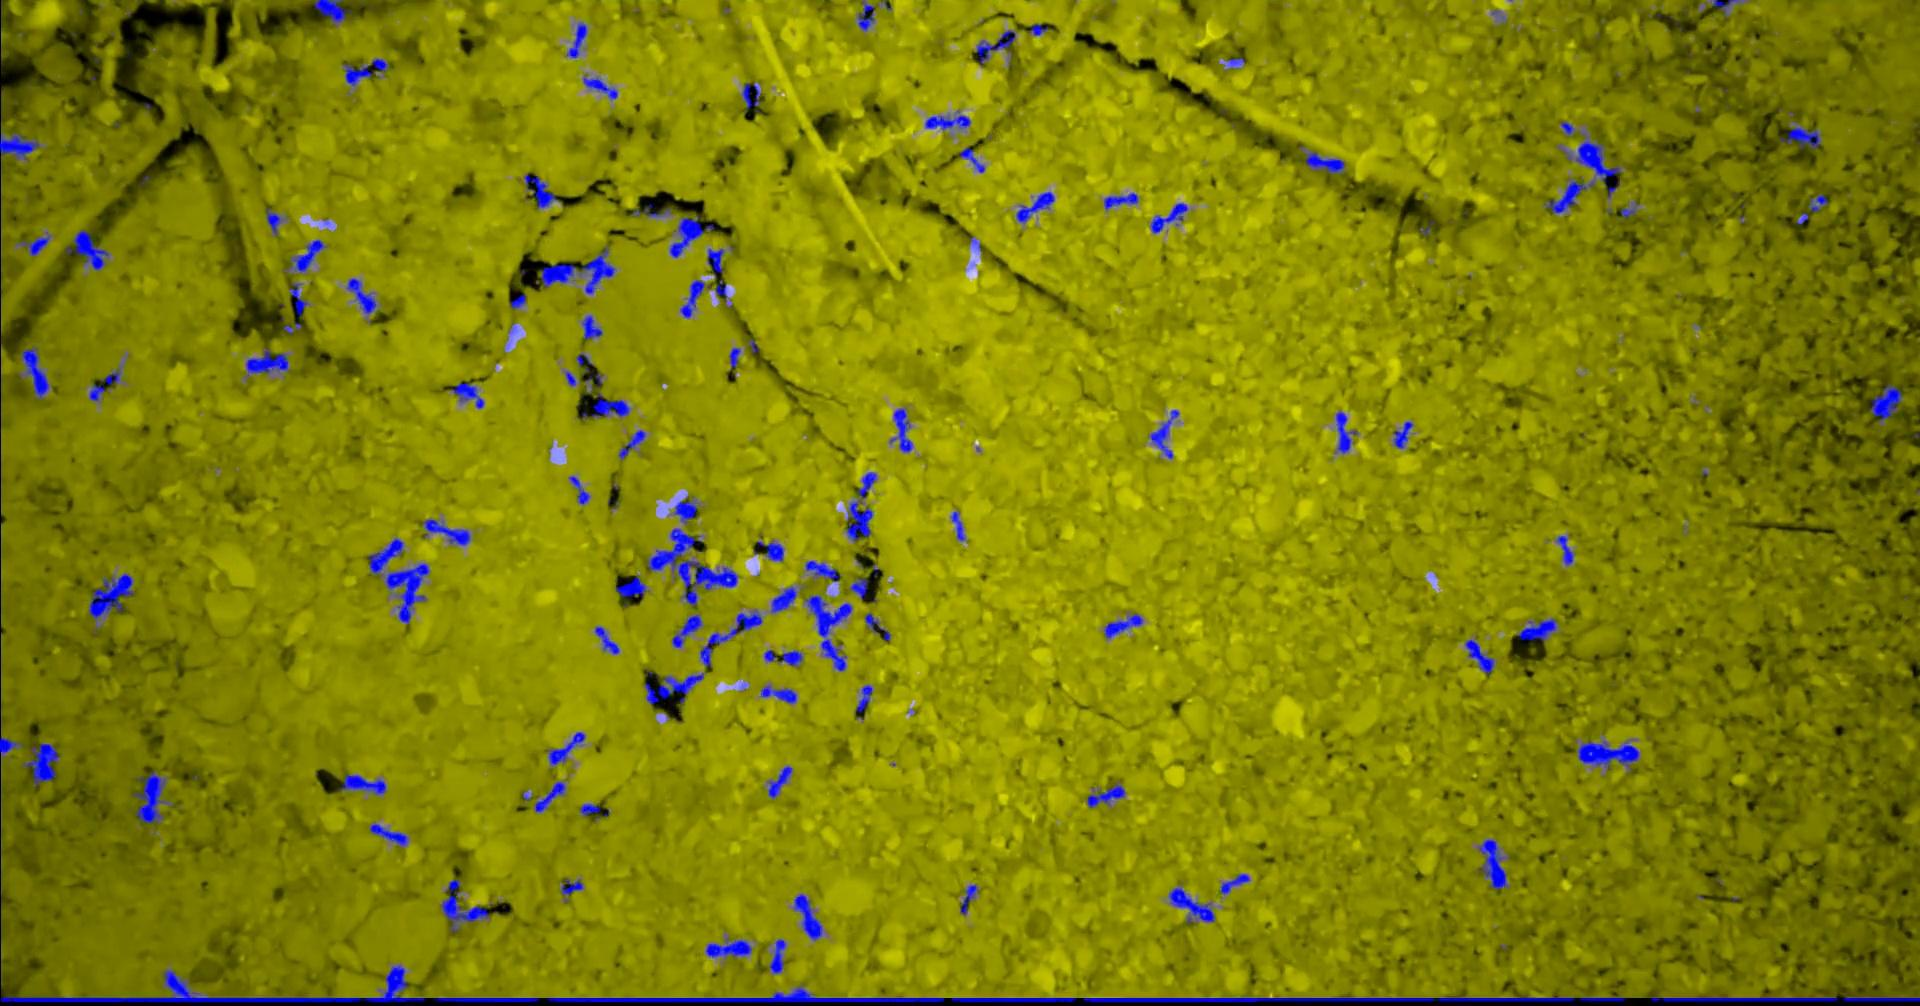ant: (698, 608, 762, 666), (1559, 133, 1620, 185), (439, 878, 488, 931), (0, 119, 39, 178), (846, 471, 876, 541), (133, 771, 171, 823), (643, 672, 703, 704), (1576, 739, 1639, 770), (63, 229, 108, 271), (18, 345, 52, 399), (1544, 177, 1594, 213), (669, 215, 712, 257), (1168, 887, 1215, 923), (22, 742, 58, 786), (1148, 409, 1178, 459), (1478, 840, 1507, 888), (283, 239, 325, 272), (792, 893, 822, 940), (342, 58, 389, 86), (547, 730, 584, 766), (977, 29, 1015, 64), (422, 518, 470, 545), (1869, 384, 1902, 422), (582, 392, 629, 419), (1015, 191, 1054, 222), (245, 347, 290, 375), (523, 173, 557, 208), (88, 365, 121, 400), (679, 279, 710, 318), (1779, 121, 1820, 149), (1150, 202, 1187, 232), (345, 278, 377, 312), (670, 614, 702, 647), (1464, 639, 1495, 673), (889, 408, 912, 452), (1086, 781, 1125, 807), (1335, 412, 1357, 453), (1517, 617, 1557, 641), (340, 774, 386, 794), (535, 781, 565, 812), (312, 0, 350, 24), (1103, 614, 1142, 638), (370, 822, 408, 846), (924, 111, 970, 130), (705, 937, 750, 956), (1304, 151, 1343, 173), (450, 382, 483, 408), (767, 765, 792, 798), (583, 75, 617, 99), (17, 231, 50, 255), (618, 429, 645, 459), (804, 560, 841, 580), (863, 612, 890, 640), (615, 575, 645, 600), (770, 586, 796, 612), (594, 625, 618, 654), (759, 683, 796, 702), (566, 22, 585, 57), (1219, 873, 1250, 894), (763, 649, 803, 666), (959, 146, 984, 171), (673, 495, 696, 523), (950, 997, 1076, 1002), (855, 683, 872, 719), (568, 475, 589, 504), (1103, 192, 1138, 210), (290, 282, 307, 315), (768, 937, 785, 973), (1556, 535, 1575, 565), (560, 876, 583, 902), (1392, 420, 1412, 448), (756, 541, 783, 561), (959, 884, 977, 915), (432, 997, 538, 1002), (742, 83, 759, 112), (857, 0, 874, 30), (631, 203, 670, 216), (582, 315, 602, 339), (1710, 0, 1738, 17), (265, 207, 282, 235), (707, 248, 723, 277), (950, 511, 965, 540), (0, 735, 22, 756), (850, 577, 869, 600), (1807, 193, 1827, 211), (575, 353, 593, 372), (584, 373, 602, 392), (714, 279, 730, 300), (1620, 201, 1639, 217), (728, 347, 740, 367), (579, 803, 599, 815), (1029, 23, 1048, 36), (1559, 121, 1575, 136), (509, 293, 526, 307), (1225, 57, 1244, 69), (283, 323, 301, 333)
